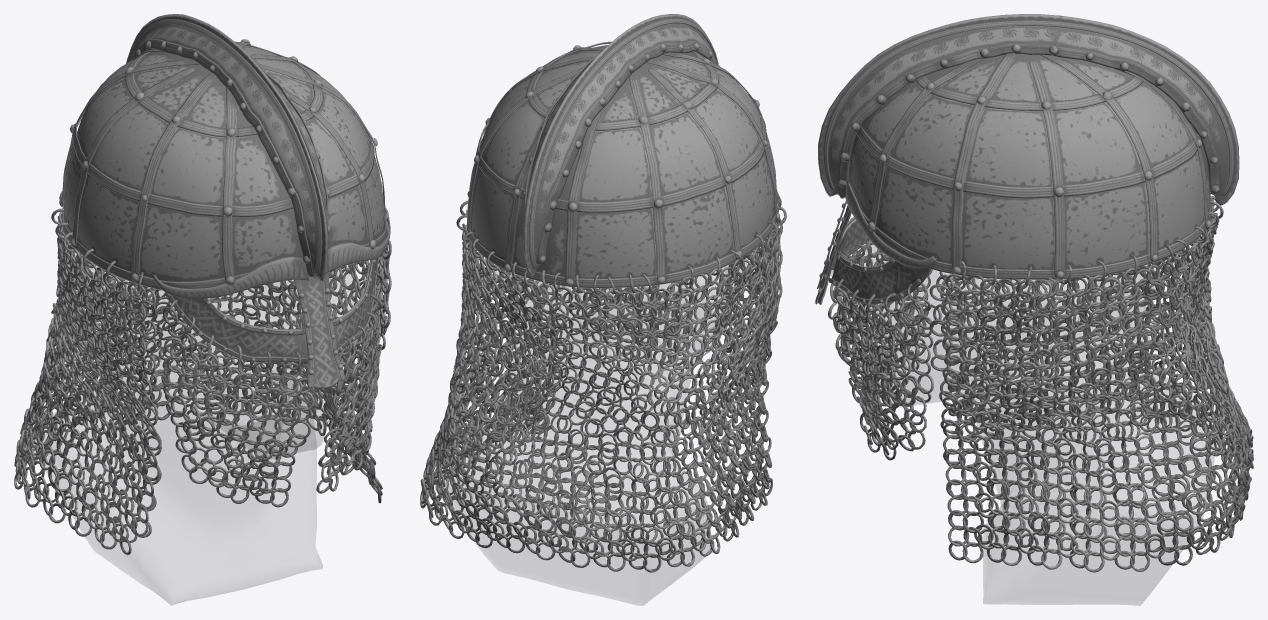
3 renders of one model, left to right at view 1: azimuth 30°, elevation 25°; view 2: azimuth 150°, elevation 25°; view 3: azimuth 270°, elevation 25°, orthographic. The views are drawn at different scales.
Parts seen in each view (by area): view 1: LP_Kolczuga, LP_Head, LP_Main, LP_Pioro, LP_Paski3, LP_Paski1, LP_Paski4, LP_Policzki, LP_Brwi, LP_Paski2, LP_Nos, LP_Nity; view 2: LP_Kolczuga, LP_Main, LP_Head, LP_Paski3, LP_Pioro, LP_Paski1, LP_Paski2, LP_Paski4, LP_Nity; view 3: LP_Kolczuga, LP_Main, LP_Head, LP_Pioro, LP_Paski3, LP_Paski1, LP_Paski2, LP_Paski4, LP_Policzki, LP_Nity, LP_Brwi.
Boxes of the visible parts, x1=… form: LP_Kolczuga: x1=14, y1=191, x2=391, y2=555; LP_Head: x1=32, y1=254, x2=356, y2=605; LP_Main: x1=63, y1=45, x2=384, y2=281; LP_Pioro: x1=127, y1=14, x2=327, y2=282; LP_Paski3: x1=61, y1=42, x2=385, y2=282; LP_Paski1: x1=62, y1=41, x2=386, y2=290; LP_Paski4: x1=126, y1=19, x2=378, y2=387; LP_Policzki: x1=172, y1=258, x2=377, y2=358; LP_Brwi: x1=152, y1=217, x2=390, y2=298; LP_Paski2: x1=130, y1=39, x2=328, y2=277; LP_Nos: x1=296, y1=275, x2=341, y2=387; LP_Nity: x1=59, y1=39, x2=388, y2=374; LP_Kolczuga: x1=420, y1=191, x2=786, y2=572; LP_Main: x1=468, y1=45, x2=776, y2=287; LP_Head: x1=435, y1=253, x2=749, y2=605; LP_Paski3: x1=467, y1=47, x2=777, y2=283; LP_Pioro: x1=524, y1=14, x2=715, y2=277; LP_Paski1: x1=467, y1=41, x2=778, y2=288; LP_Paski2: x1=524, y1=40, x2=717, y2=264; LP_Paski4: x1=523, y1=18, x2=718, y2=269; LP_Nity: x1=465, y1=43, x2=779, y2=286; LP_Kolczuga: x1=828, y1=190, x2=1253, y2=572; LP_Main: x1=848, y1=53, x2=1210, y2=279; LP_Head: x1=831, y1=228, x2=1215, y2=605; LP_Pioro: x1=818, y1=14, x2=1239, y2=205; LP_Paski3: x1=869, y1=53, x2=1208, y2=279; LP_Paski1: x1=856, y1=75, x2=1211, y2=279; LP_Paski2: x1=838, y1=43, x2=1219, y2=198; LP_Paski4: x1=815, y1=20, x2=1234, y2=304; LP_Policzki: x1=831, y1=219, x2=931, y2=303; LP_Nity: x1=818, y1=44, x2=1219, y2=303; LP_Brwi: x1=845, y1=181, x2=936, y2=268.
Size of the model in its own units: 0.2764 by 0.484 by 0.3456.
Materials: 3 (2 with a texture image).
